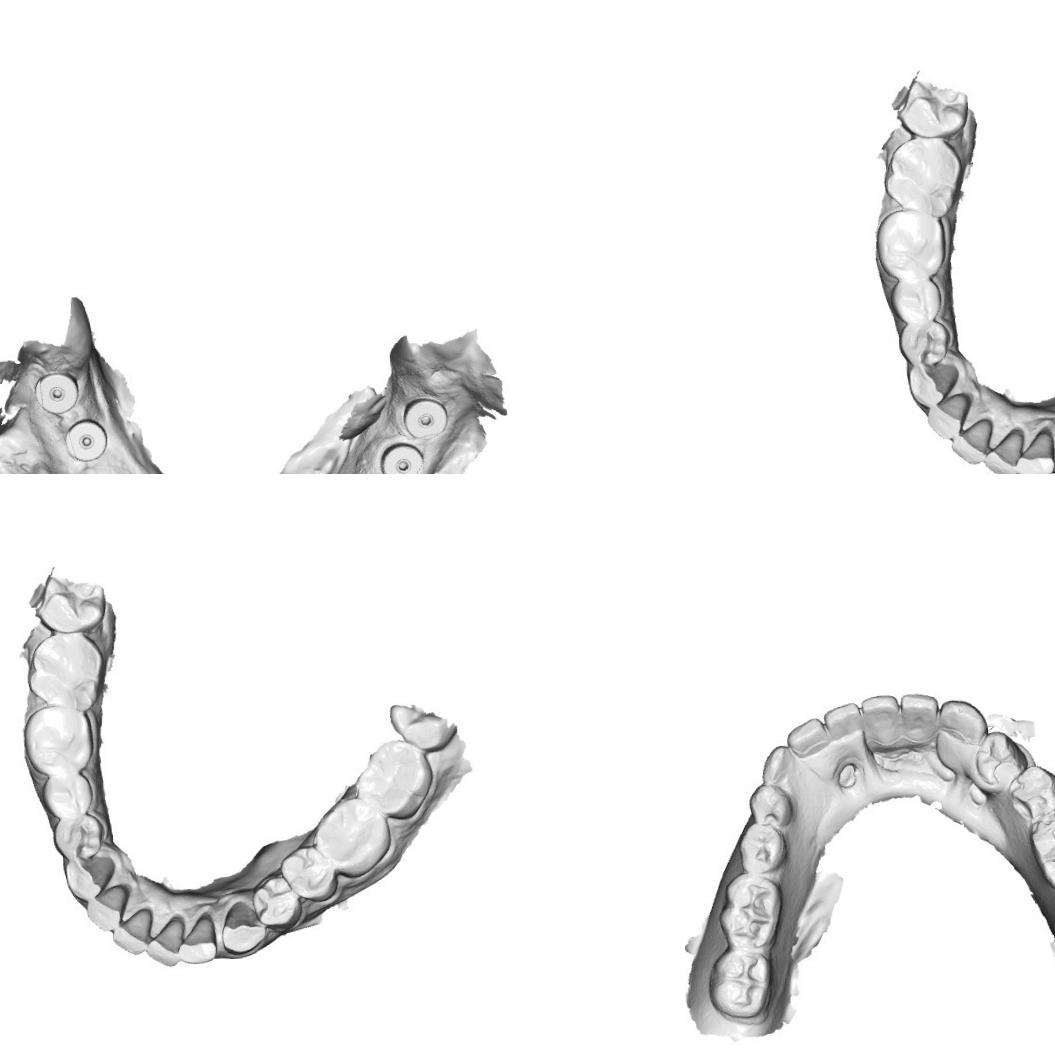canine: (938, 697, 988, 754), (61, 850, 114, 903), (761, 745, 814, 798), (218, 898, 264, 956), (904, 359, 958, 408)
implant: (32, 369, 80, 415), (400, 392, 446, 440), (376, 440, 426, 474), (64, 419, 106, 458)
incisor: (857, 689, 910, 768), (897, 688, 944, 760), (822, 700, 870, 770), (786, 714, 838, 774), (141, 912, 187, 968), (175, 910, 217, 970), (923, 392, 973, 438), (82, 886, 130, 932), (948, 418, 990, 466), (983, 425, 1024, 474), (111, 911, 150, 958), (1016, 429, 1055, 474)
molar: (352, 734, 430, 824), (869, 201, 951, 284), (314, 795, 392, 882), (879, 134, 960, 212), (28, 629, 106, 710), (19, 702, 100, 776), (714, 868, 784, 952), (707, 944, 780, 1024), (1027, 809, 1055, 893)
premolar: (732, 818, 790, 878), (892, 269, 946, 328), (40, 766, 96, 822), (51, 809, 109, 860), (1004, 766, 1055, 823), (974, 732, 1022, 790), (742, 778, 790, 831), (287, 848, 335, 898), (254, 874, 300, 926), (900, 320, 948, 367)
